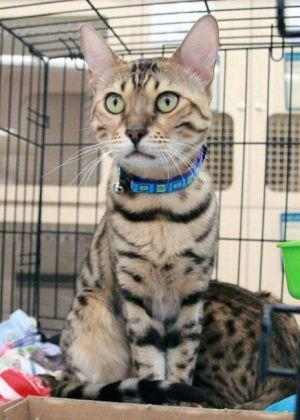bengal: (75, 10, 237, 191)
